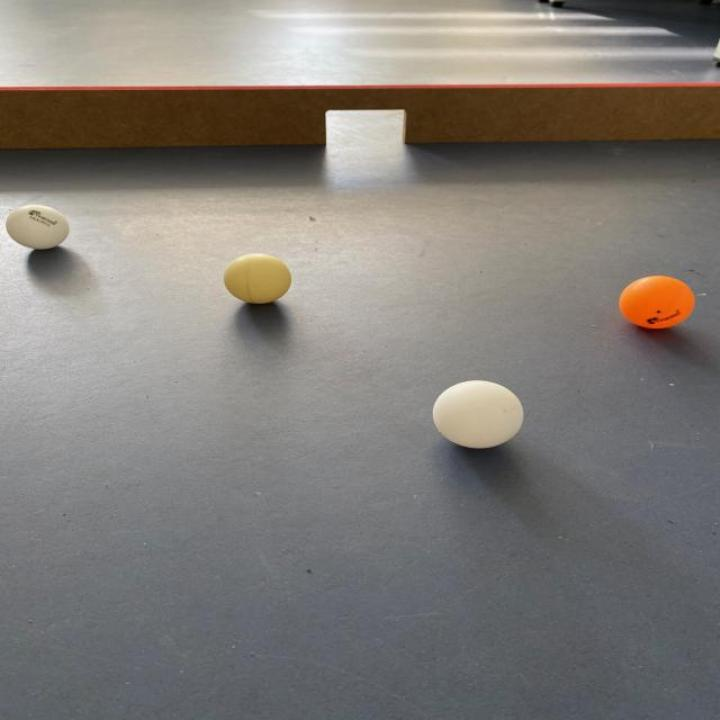orange: (620, 275, 695, 330)
white: (435, 380, 523, 450), (221, 254, 292, 303), (7, 204, 68, 250)
